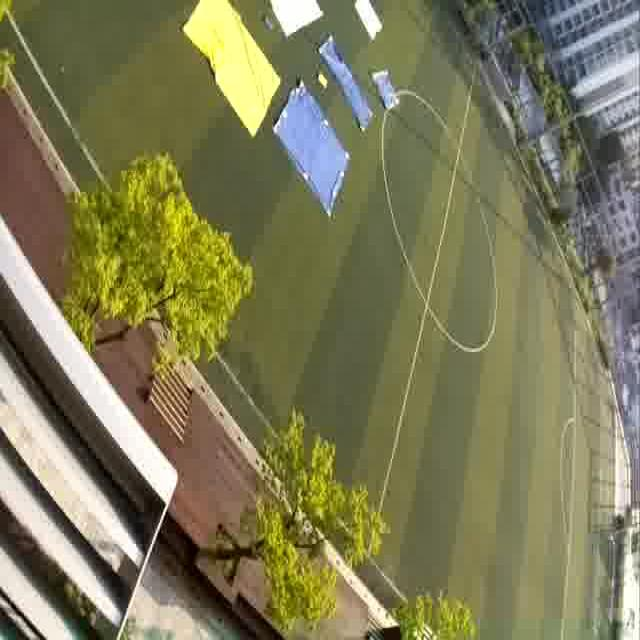danger: (282, 104, 342, 191), (372, 65, 404, 113), (336, 57, 362, 113)
safety: (269, 0, 324, 38), (352, 0, 388, 45)
warning: (191, 6, 268, 113)
